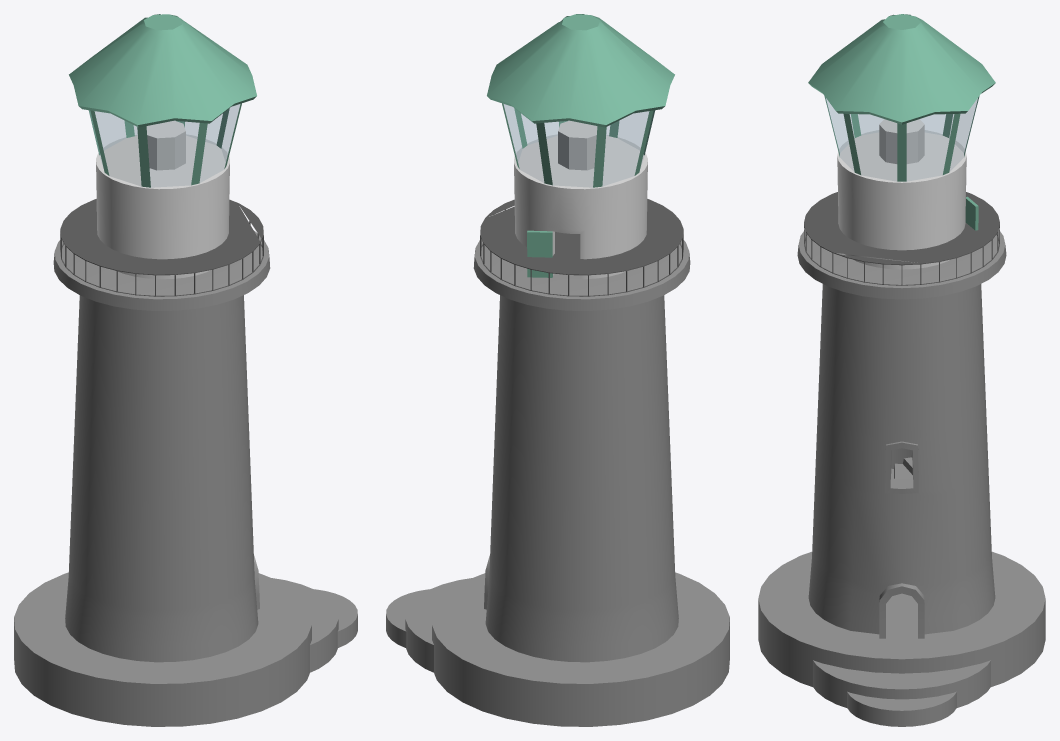
File: MSH_LightHouse.fbx
The picture shows the model from 3 angles, left to right: view 1: azimuth 30°, elevation 25°; view 2: azimuth 150°, elevation 25°; view 3: azimuth 270°, elevation 25°; orthographic projection. The views are drawn at different scales.
Visible parts, largest first — view 1: LightHouse, Top, Bottom, Fences, Bottom.001, Bottom.002; view 2: LightHouse, Top, Bottom, Fences, Bottom.001, Bottom.002; view 3: LightHouse, Top, Bottom, Fences, Bottom.001, Bottom.002.
Boxes of the visible parts, bbox=[...] form: LightHouse: bbox=[53, 231, 270, 662]; Top: bbox=[69, 14, 256, 279]; Bottom: bbox=[14, 572, 311, 726]; Fences: bbox=[60, 199, 263, 296]; Bottom.001: bbox=[272, 578, 338, 672]; Bottom.002: bbox=[314, 589, 357, 647]; LightHouse: bbox=[473, 239, 690, 662]; Top: bbox=[487, 14, 674, 279]; Bottom: bbox=[432, 572, 729, 726]; Fences: bbox=[480, 199, 683, 296]; Bottom.001: bbox=[405, 578, 471, 672]; Bottom.002: bbox=[386, 589, 429, 647]; LightHouse: bbox=[797, 229, 1006, 638]; Top: bbox=[808, 14, 995, 269]; Bottom: bbox=[758, 551, 1045, 686]; Fences: bbox=[804, 192, 999, 285]; Bottom.001: bbox=[813, 660, 990, 707]; Bottom.002: bbox=[847, 691, 956, 726].
Bounding box in the file's own units: 982 × 1203 × 2331.
